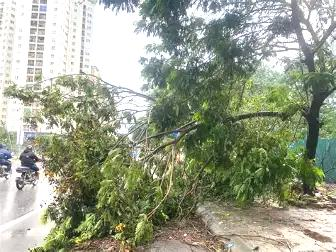ROAD_OBSTACLE: (0, 20, 306, 244)
